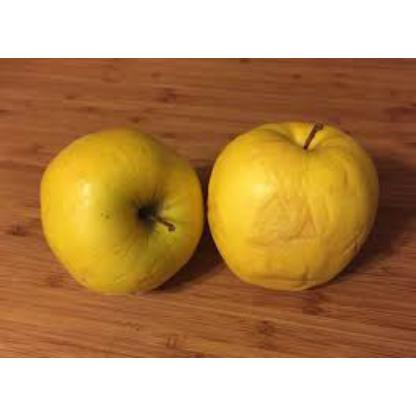apple: (208, 123, 360, 285), (36, 145, 188, 288)
